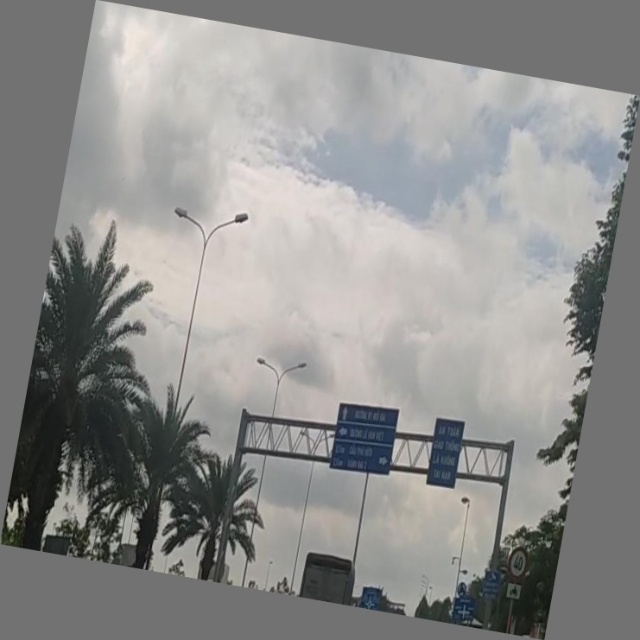P.127*40: (506, 544, 531, 582)
S.505a*Xe may: (503, 579, 525, 603)
